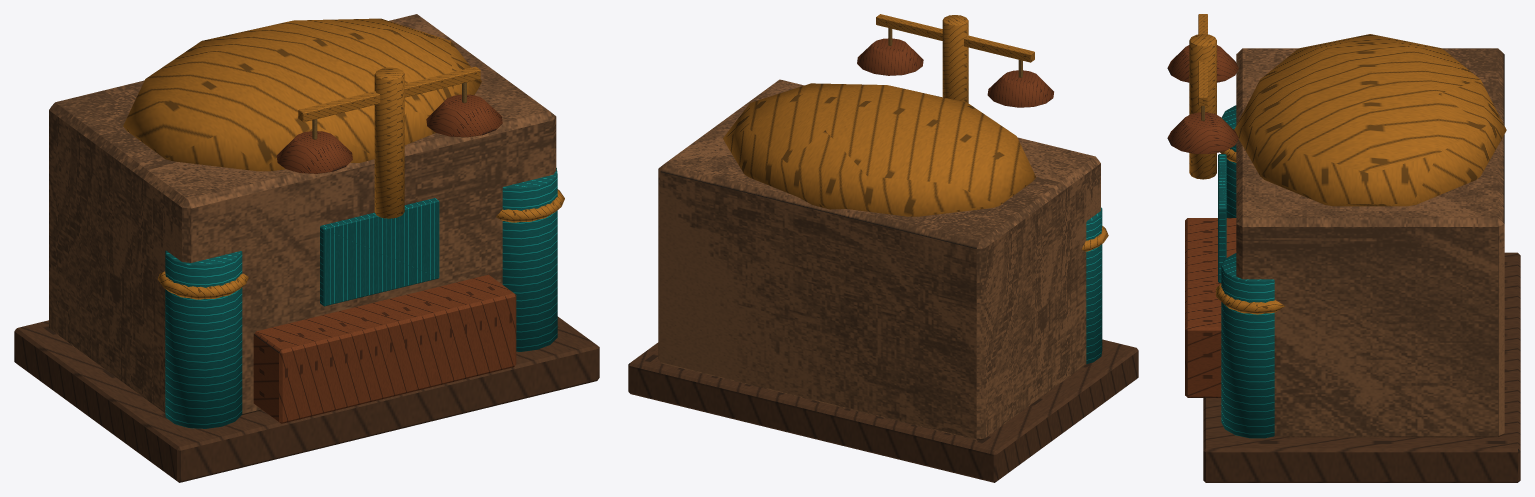
File: water-ledger-office.glb
3 views of the same model, side by side, from view 1: azimuth 30°, elevation 25°; view 2: azimuth 150°, elevation 25°; view 3: azimuth 270°, elevation 25° (orthographic). The views are drawn at different scales.
Visible parts, largest first — view 1: water-ledger-office; view 2: water-ledger-office; view 3: water-ledger-office.
Boxes of the visible parts, <box> form: water-ledger-office: <box>14,14,599,482</box>; water-ledger-office: <box>628,14,1138,482</box>; water-ledger-office: <box>1167,14,1520,482</box>.
Size of the model in its own units: 4.18 by 3.4 by 3.15.
1 material, 1 textured.
